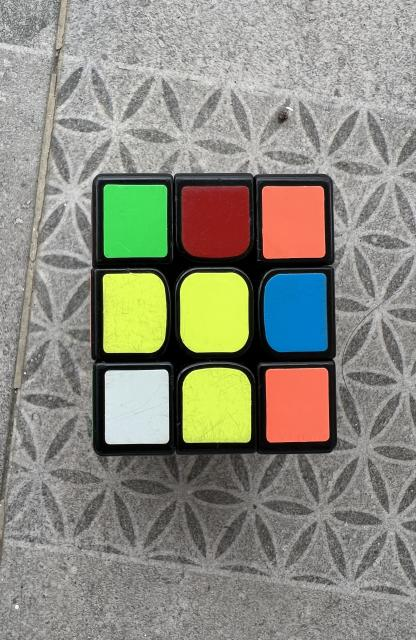Blue: (263, 272, 328, 352)
Green: (103, 184, 168, 258)
Orange: (265, 368, 329, 442), (262, 186, 325, 259)
Red: (181, 186, 250, 258)
White: (105, 369, 169, 445)
Yellow: (180, 272, 249, 352), (103, 272, 167, 352), (182, 368, 251, 442)
